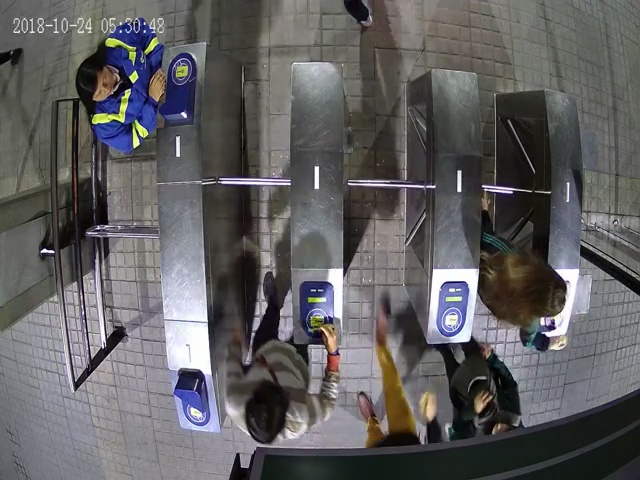Chaleco_azul: (76, 18, 167, 154)
